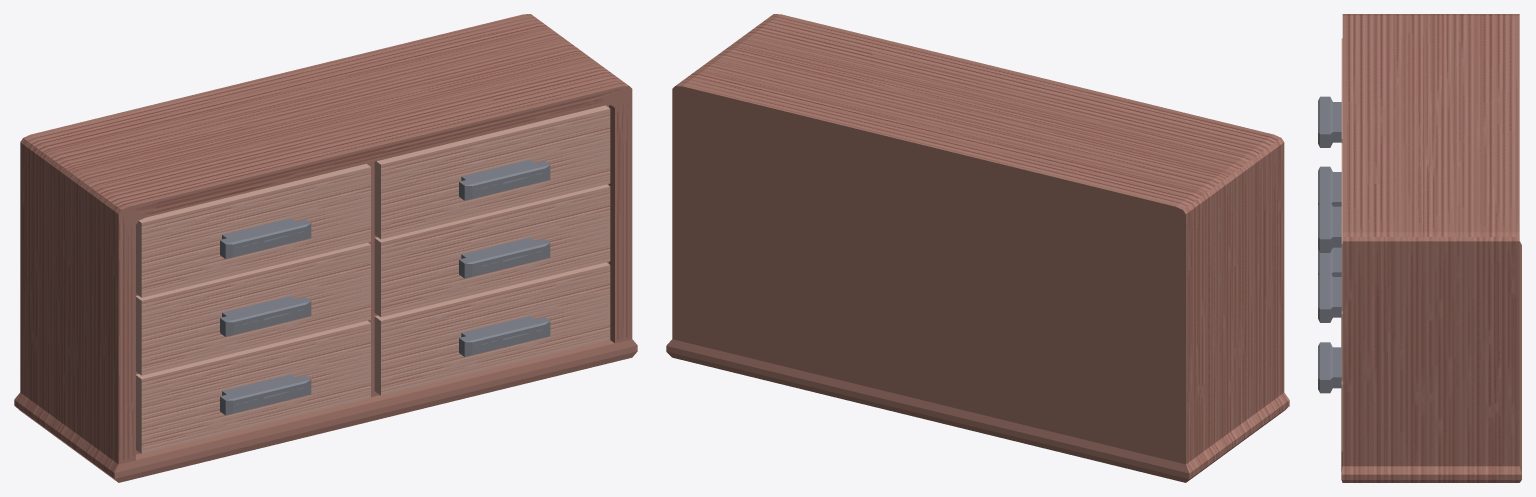
File: Waredorbe.fbx
The picture shows the model from 3 angles, left to right: view 1: azimuth 30°, elevation 25°; view 2: azimuth 150°, elevation 25°; view 3: azimuth 270°, elevation 25°; orthographic projection. The views are drawn at different scales.
Parts seen in each view (by area): view 1: Komode; view 2: Komode; view 3: Komode.
Part boxes in pixels (box(x1,y1,x2,y2)): Komode: box(14, 14, 637, 482); Komode: box(666, 14, 1289, 482); Komode: box(1318, 14, 1521, 482).
Size of the model in its own units: 197 by 98.48 by 73.86.
